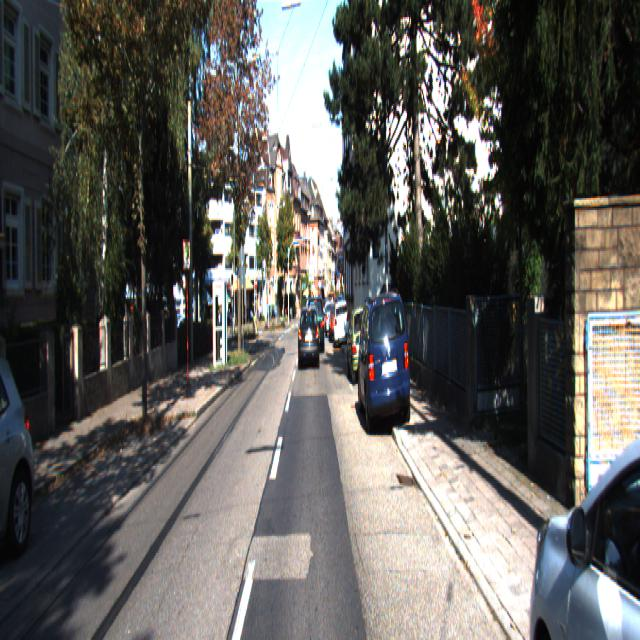Car: (524, 324, 640, 638), (0, 338, 44, 571), (356, 285, 412, 440), (346, 302, 376, 387), (298, 303, 319, 371), (307, 295, 325, 355), (333, 299, 350, 350)
